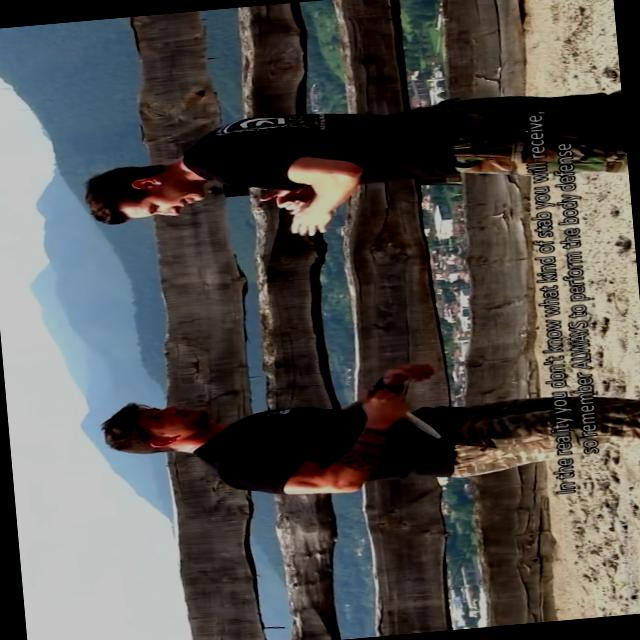knife: (359, 381, 444, 448)
